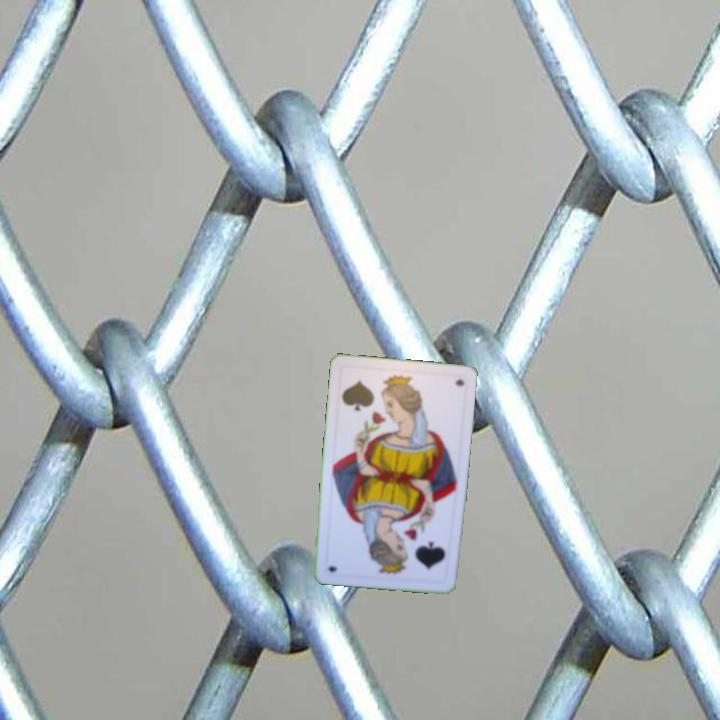s_q.png: (335, 363, 406, 427), (382, 522, 454, 585)
